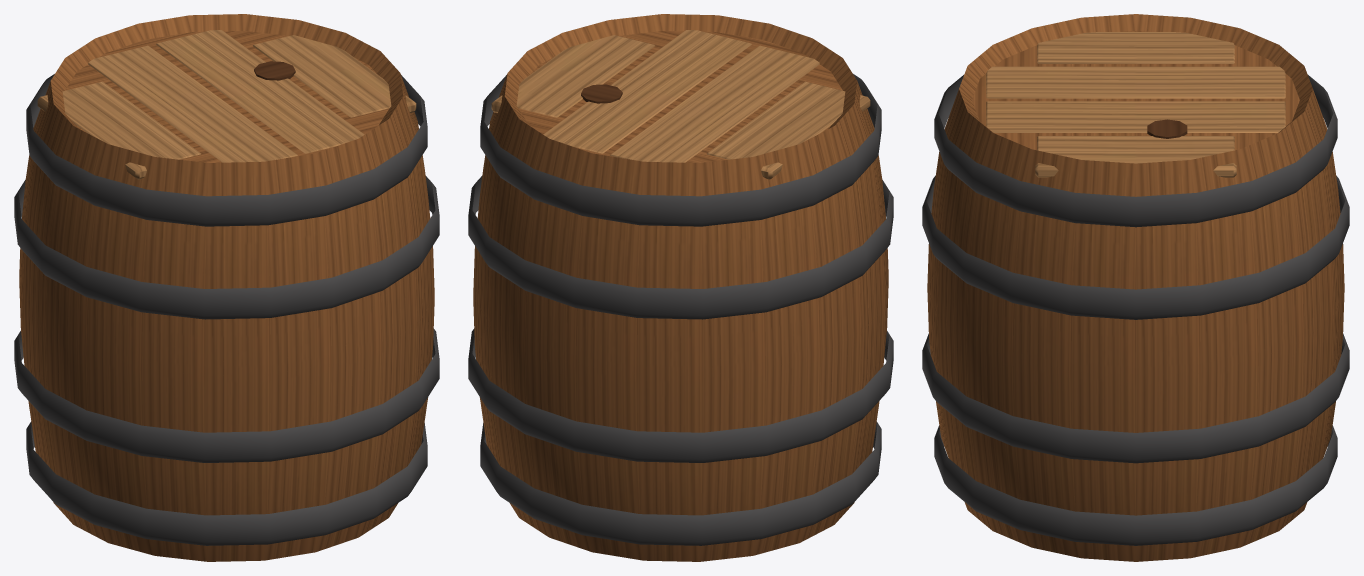
Rendered from tavern-stool-barrel.glb.
3 views of the same model, side by side, from view 1: azimuth 30°, elevation 25°; view 2: azimuth 150°, elevation 25°; view 3: azimuth 270°, elevation 25° (orthographic).
Parts seen in each view (by area): view 1: tavern_stool_barrel; view 2: tavern_stool_barrel; view 3: tavern_stool_barrel.
Part boxes in pixels (x1=…): tavern_stool_barrel: x1=14, y1=14, x2=439, y2=561; tavern_stool_barrel: x1=468, y1=14, x2=893, y2=561; tavern_stool_barrel: x1=922, y1=14, x2=1349, y2=561.
Bounding box in the file's own units: 0.4081 × 0.42 × 0.4081.
Materials: 4 (3 with a texture image).
